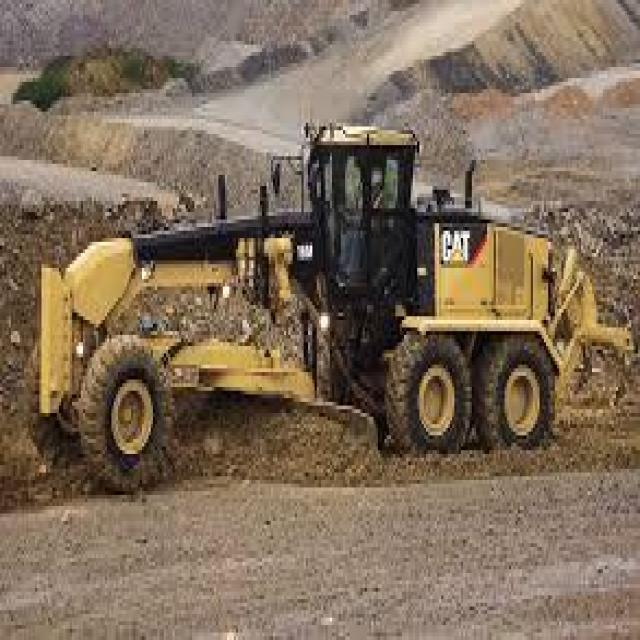buldozerpayloadergrader: (28, 74, 629, 510)
